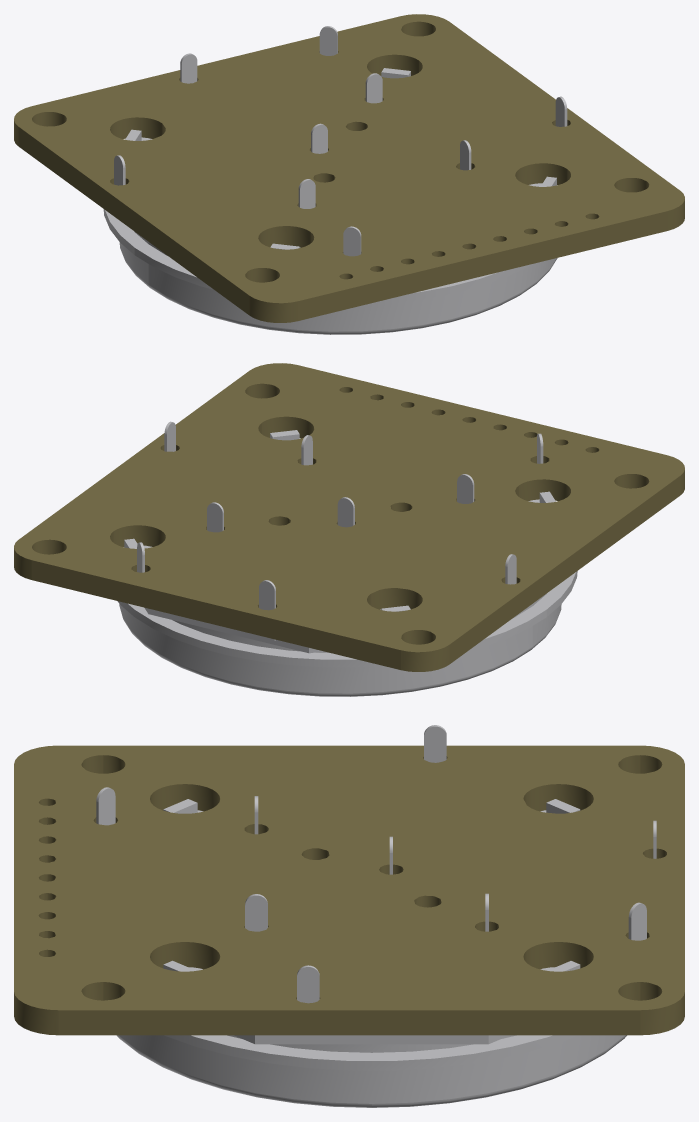
Rendered from ada-5221.glb.
3 renders of one model, top to bottom at view 1: azimuth 30°, elevation 25°; view 2: azimuth 150°, elevation 25°; view 3: azimuth 270°, elevation 25°, orthographic. The views are drawn at different scales.
Parts seen in each view (by area): view 1: 0.16666666666666666_0.16666666666666666_0.08333333333333333_, 0.5833333333333334_0.5833333333333334_0.5833333333333334_0.8; view 2: 0.16666666666666666_0.16666666666666666_0.08333333333333333_, 0.5833333333333334_0.5833333333333334_0.5833333333333334_0.8; view 3: 0.16666666666666666_0.16666666666666666_0.08333333333333333_, 0.5833333333333334_0.5833333333333334_0.5833333333333334_0.8.
Part boxes in pixels (x1,y1,x2,y2): 0.16666666666666666_0.16666666666666666_0.08333333333333333_: (14, 14, 684, 322); 0.5833333333333334_0.5833333333333334_0.5833333333333334_0.8: (103, 26, 567, 334); 0.16666666666666666_0.16666666666666666_0.08333333333333333_: (14, 363, 684, 671); 0.5833333333333334_0.5833333333333334_0.5833333333333334_0.8: (117, 421, 577, 696); 0.16666666666666666_0.16666666666666666_0.08333333333333333_: (14, 745, 684, 1035); 0.5833333333333334_0.5833333333333334_0.5833333333333334_0.8: (96, 725, 656, 1107).
Size of the model in its own units: 3.56 by 0.9371 by 3.81.
